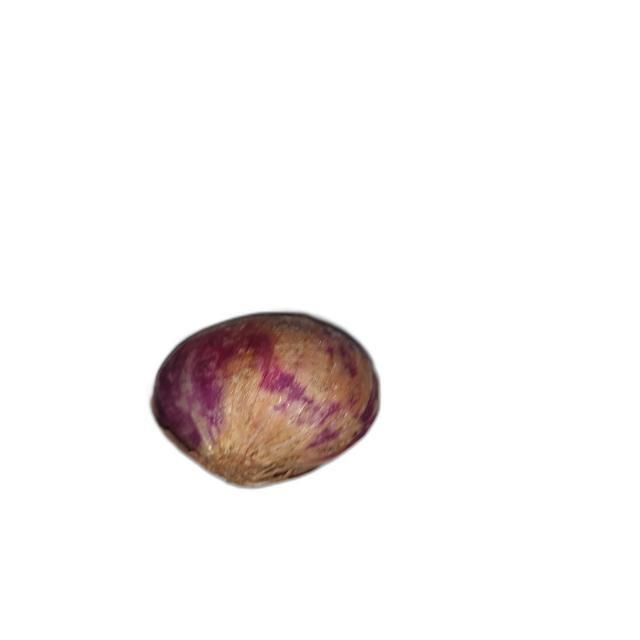onion: (149, 310, 382, 489)
